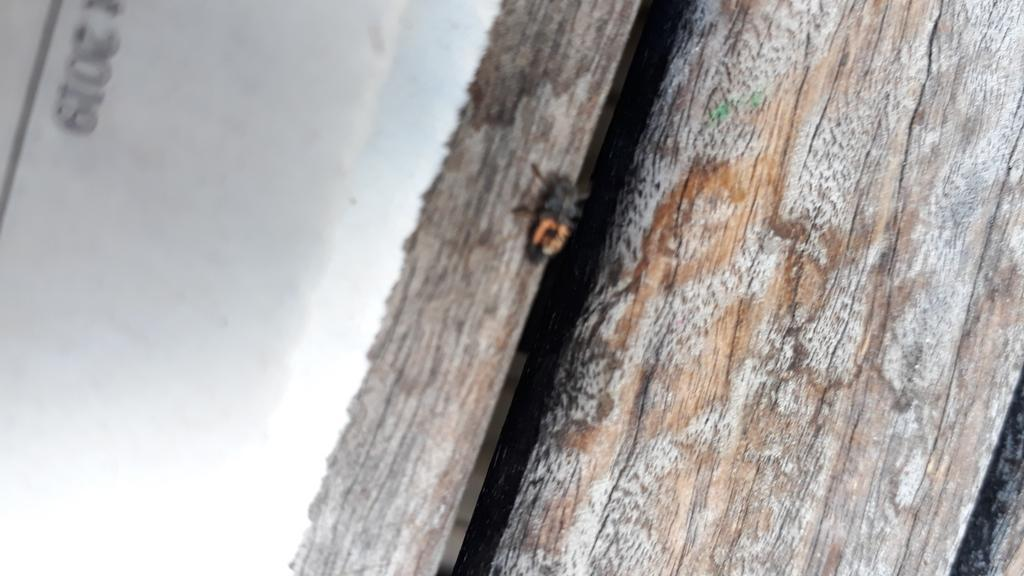ladybug: (511, 161, 594, 269)
